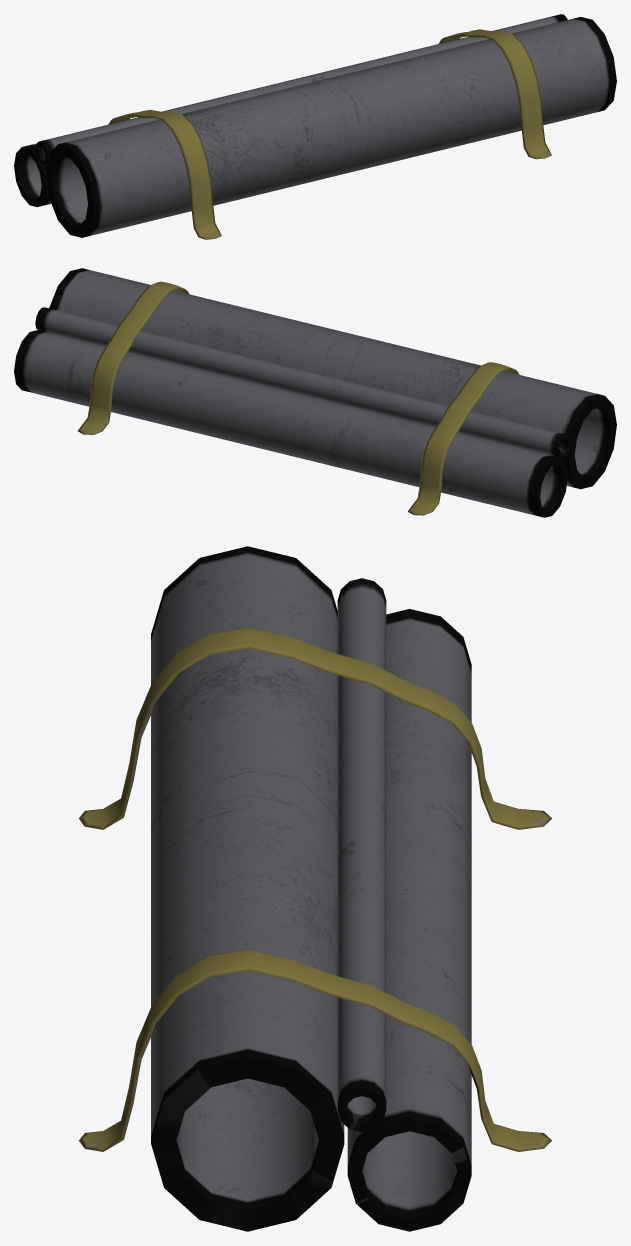
File: Pipes_03.fbx
3 renders of one model, top to bottom at view 1: azimuth 30°, elevation 25°; view 2: azimuth 150°, elevation 25°; view 3: azimuth 270°, elevation 25°, orthographic. The views are drawn at different scales.
Parts seen in each view (by area): view 1: polySurface3; view 2: polySurface3; view 3: polySurface3.
Boxes of the visible parts, left/top/right/bottom form: polySurface3: left=14, top=14, right=616, bottom=239; polySurface3: left=14, top=268, right=616, bottom=517; polySurface3: left=78, top=546, right=551, bottom=1231.
Size of the model in its own units: 3.6 by 0.616 by 1.41.
